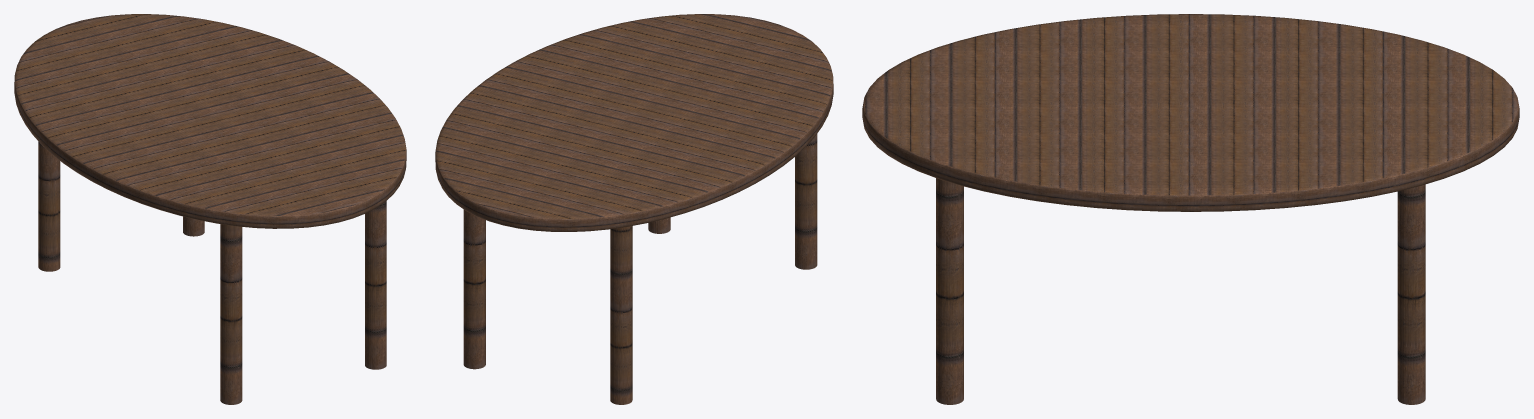
File: Table.obj
3 renders of one model, left to right at view 1: azimuth 30°, elevation 25°; view 2: azimuth 150°, elevation 25°; view 3: azimuth 270°, elevation 25°, orthographic. The views are drawn at different scales.
Visible parts, largest first — view 1: Surface, Leg.001, Leg, Leg.003, Leg.002; view 2: Surface, Leg.003, Leg.002, Leg.001; view 3: Surface, Leg.002, Leg.
Part boxes in pixels (x1,y1,x2,y2): Surface: [14, 14, 406, 228]; Leg.001: [220, 224, 242, 404]; Leg: [365, 201, 386, 369]; Leg.003: [38, 141, 60, 271]; Leg.002: [183, 216, 204, 236]; Surface: [435, 14, 833, 231]; Leg.003: [610, 226, 632, 404]; Leg.002: [463, 209, 485, 369]; Leg.001: [795, 134, 817, 269]; Surface: [862, 14, 1519, 211]; Leg.002: [1397, 184, 1425, 404]; Leg: [936, 178, 963, 404].
Bounding box in the file's own units: 2.23 × 1.43 × 3.39.
